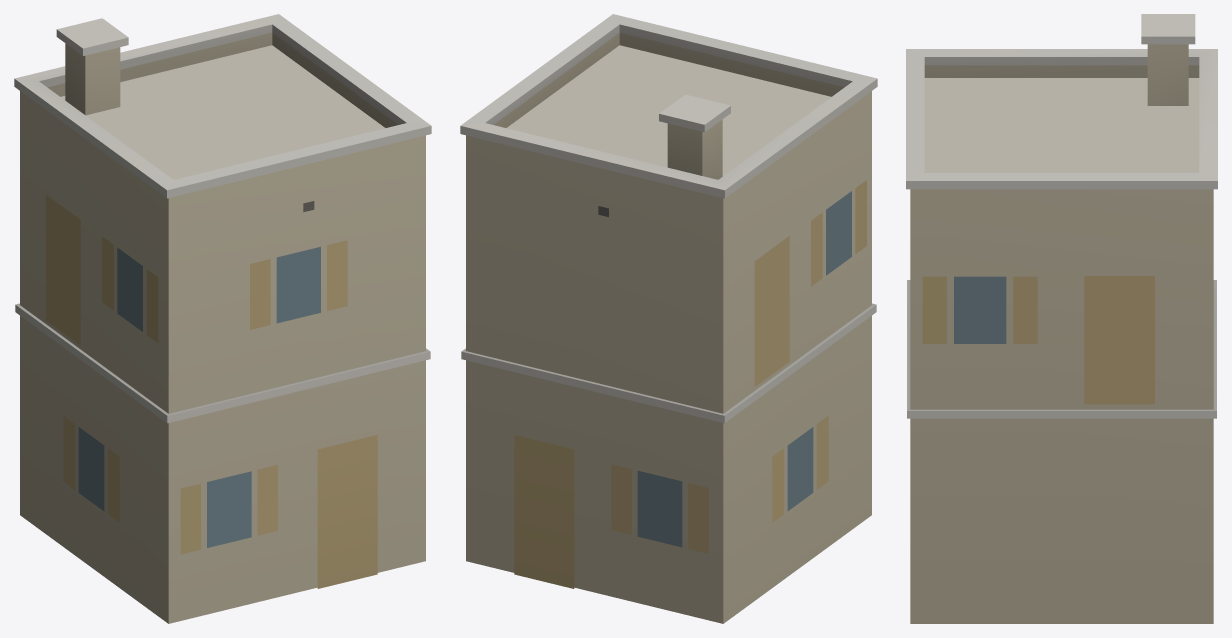
3 views of the same model, side by side, from view 1: azimuth 30°, elevation 25°; view 2: azimuth 150°, elevation 25°; view 3: azimuth 270°, elevation 25° (orthographic). The views are drawn at different scales.
Size of the model in its own units: 4.4 by 7.72 by 4.4.
